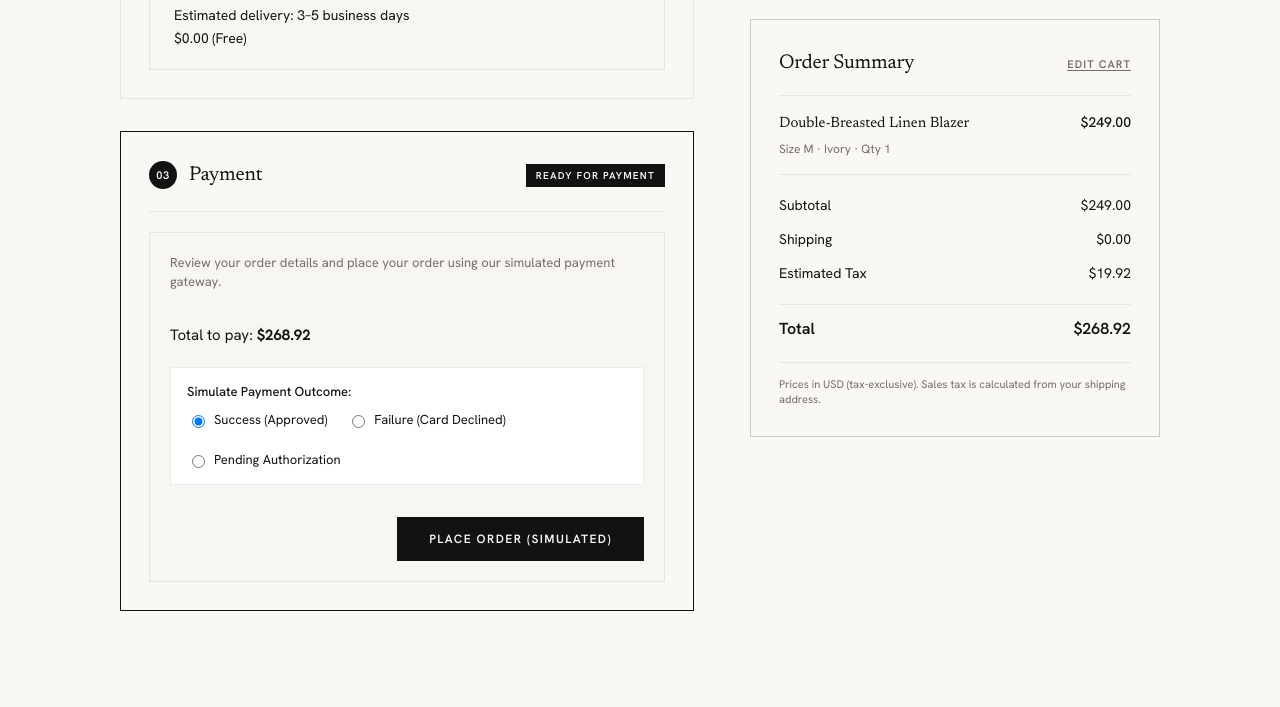
Scenario: CheckoutPage › handles payment failure and preserves checkout flow allowing retry
(page scrolled)
Expected: the text with test id "summary-subtotal" reads "$249.00", [1081,196,1131,214]
Expected: the element with test id "simulated-scenario-group" is shown, [170,367,644,485]
Click the radio button with test id "scenario-fail" at (359, 422), box [352,415,365,428]
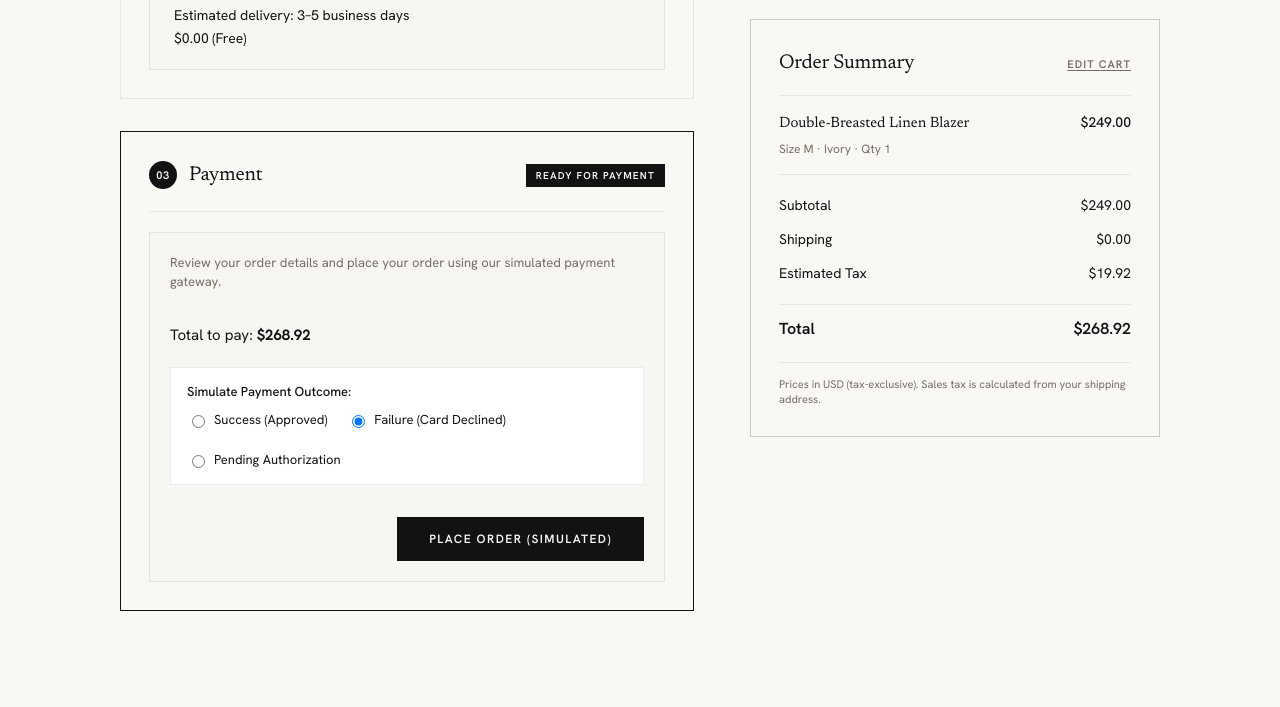
Click the button with test id "place-order-button" at (520, 540), box [397,518,644,562]
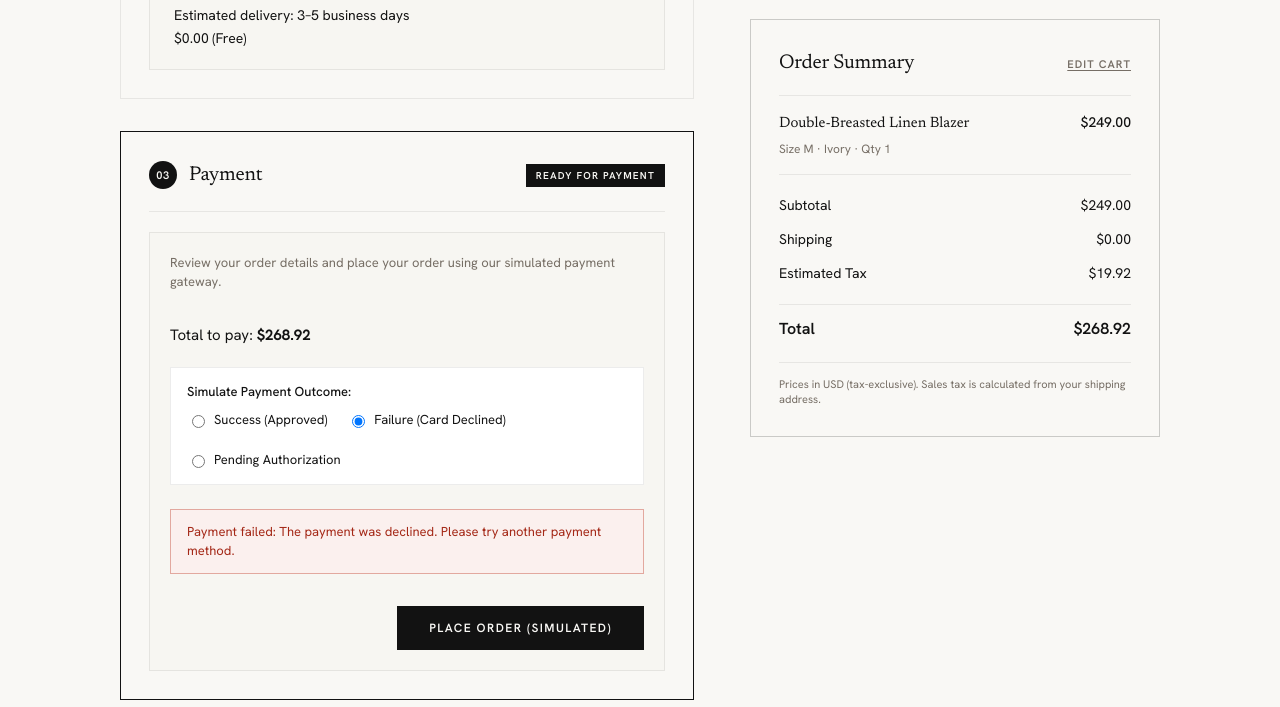
Expected: the button with test id "place-order-button" is enabled, [397,606,644,650]
Expected: the message with test id "payment-error" reads "Payment failed: The payment was declined. Please try another payment method.", [187,523,601,559]
